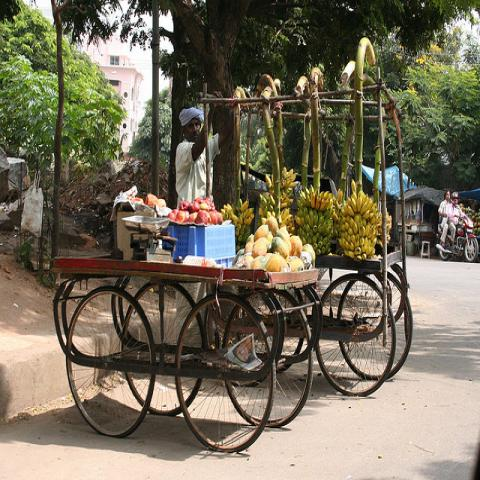motorcycle: (436, 215, 478, 261)
